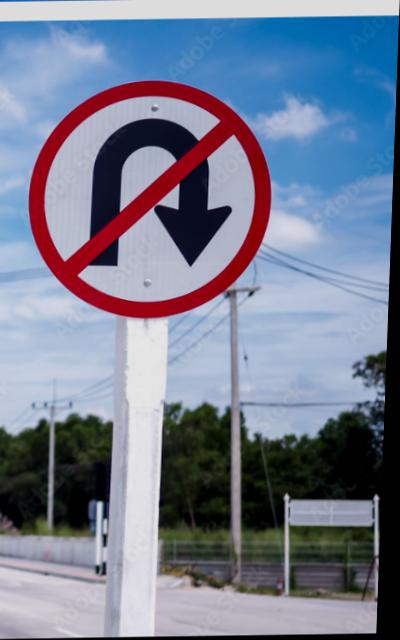not_u_turn_right: (32, 81, 271, 322)
